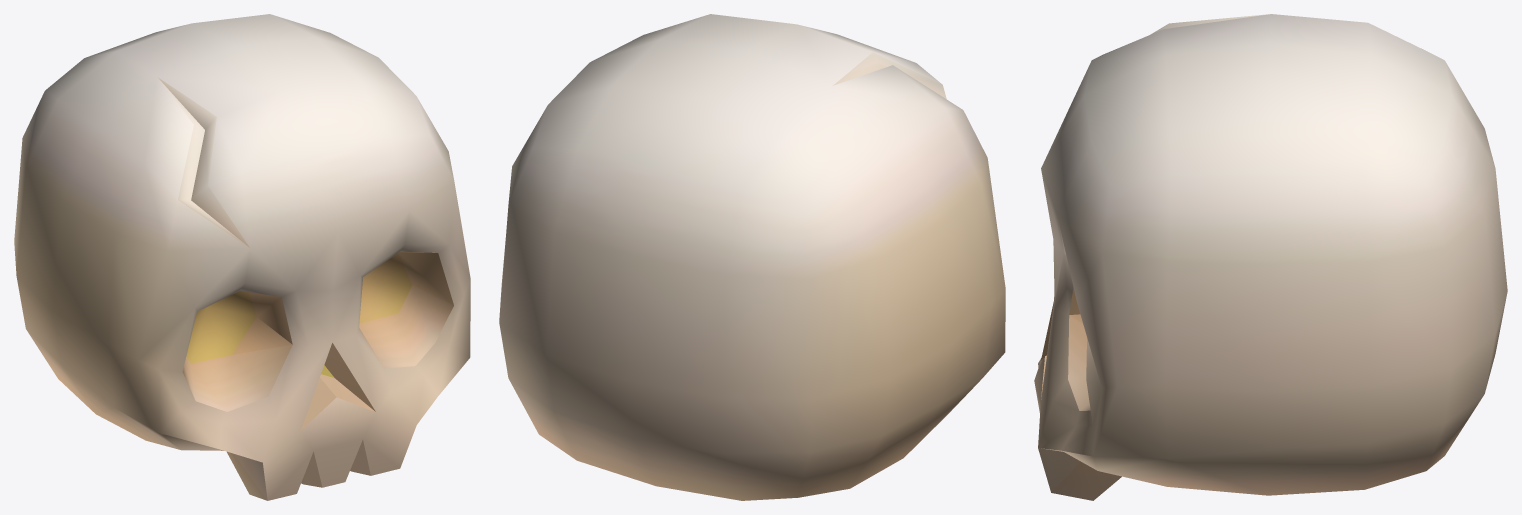
Rendered from kay-cranio.gltf.
The picture shows the model from 3 angles, left to right: view 1: azimuth 30°, elevation 25°; view 2: azimuth 150°, elevation 25°; view 3: azimuth 270°, elevation 25°; orthographic projection. The views are drawn at different scales.
Visible parts, largest first — view 1: skull; view 2: skull; view 3: skull.
Part boxes in pixels (x1,y1,x2,y2): skull: [14, 14, 470, 500]; skull: [499, 14, 1005, 500]; skull: [1034, 14, 1507, 500].
Size of the model in its own units: 0.4588 by 0.4491 by 0.4536.
Materials: 1 (1 with a texture image).
